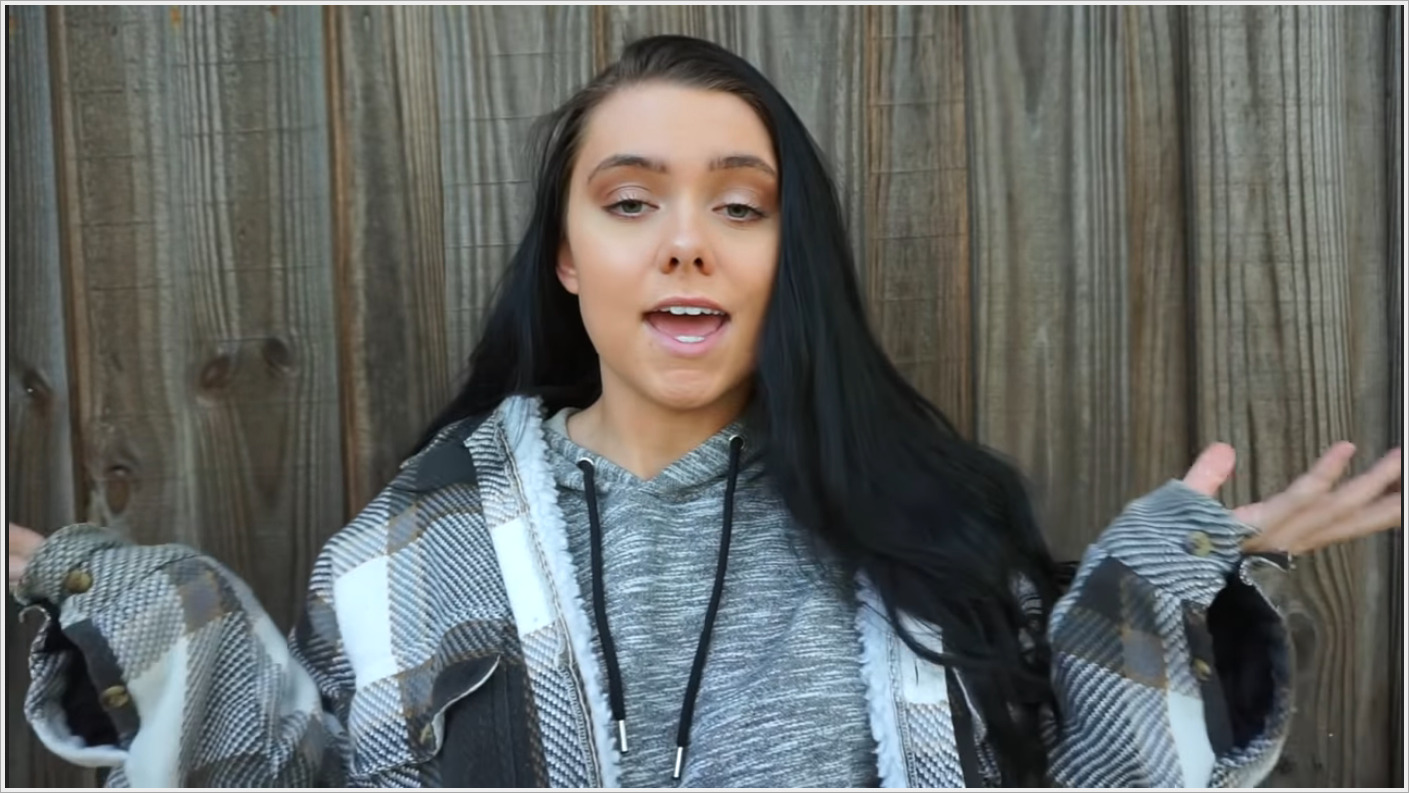hand: (1110, 414, 1397, 561), (5, 508, 62, 600)
